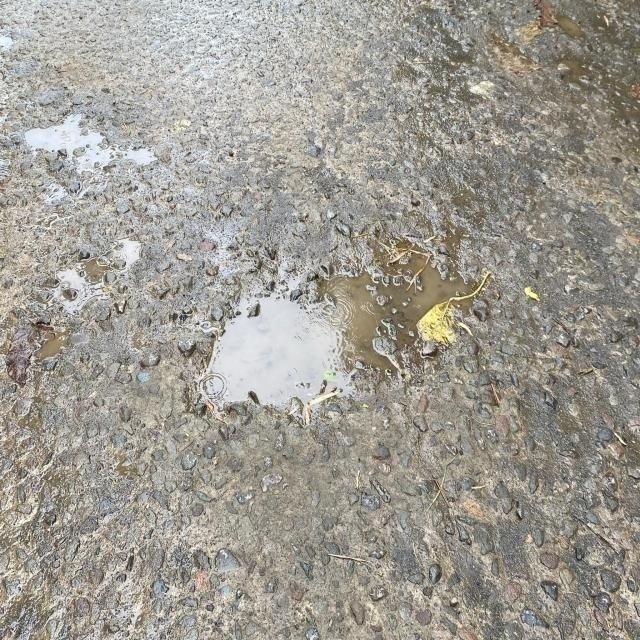pothole: (177, 152, 535, 468)
